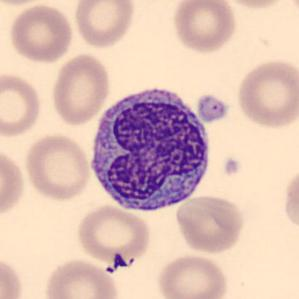Monocyte: (84, 78, 214, 219)
Platelets: (195, 92, 231, 124), (222, 155, 242, 179)
RBC: (22, 132, 92, 202), (74, 203, 153, 264), (49, 51, 112, 127), (234, 56, 298, 130), (174, 193, 246, 254), (6, 3, 74, 64), (170, 0, 239, 54), (155, 252, 230, 299), (42, 257, 121, 299), (71, 0, 137, 50), (0, 70, 44, 139), (0, 145, 27, 223), (281, 164, 299, 236), (0, 253, 25, 299), (220, 0, 294, 10)
